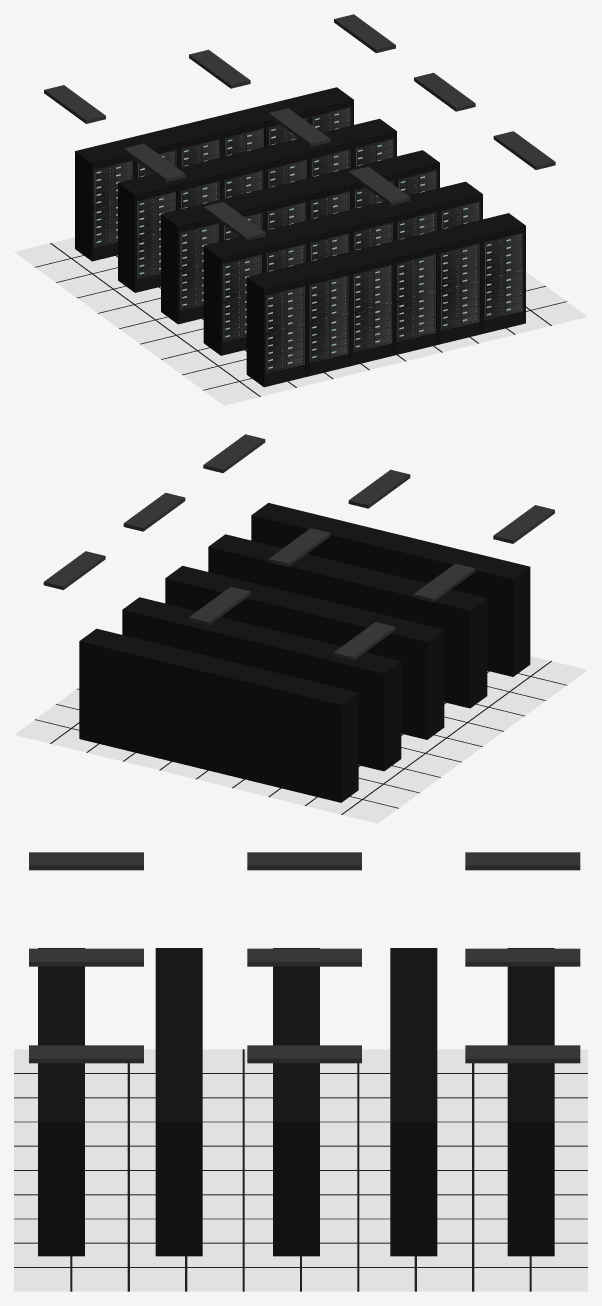
File: asset.glb
3 views of the same model, one above another, from view 1: azimuth 30°, elevation 25°; view 2: azimuth 150°, elevation 25°; view 3: azimuth 270°, elevation 25° (orthographic). The views are drawn at different scales.
Parts seen in each view (by area): view 1: Cluster, Plane.001, LampTeto.003, Plane; view 2: Cluster, Plane.001, LampTeto.003, Plane; view 3: Plane.001, Cluster, LampTeto.003, Plane.
Part boxes in pixels (<box>): Cluster: <box>75,87,525,387</box>; Plane.001: <box>14,237,587,405</box>; LampTeto.003: <box>44,14,555,240</box>; Plane: <box>35,243,566,396</box>; Cluster: <box>79,503,530,802</box>; Plane.001: <box>14,656,587,823</box>; LampTeto.003: <box>43,434,554,660</box>; Plane: <box>35,661,566,814</box>; Plane.001: <box>14,1049,587,1291</box>; Cluster: <box>38,948,554,1256</box>; LampTeto.003: <box>29,852,580,1063</box>; Plane: <box>14,1049,587,1291</box>.
Bounding box in the file's own units: 44 × 19.2 × 44.
9 materials, 1 textured.
